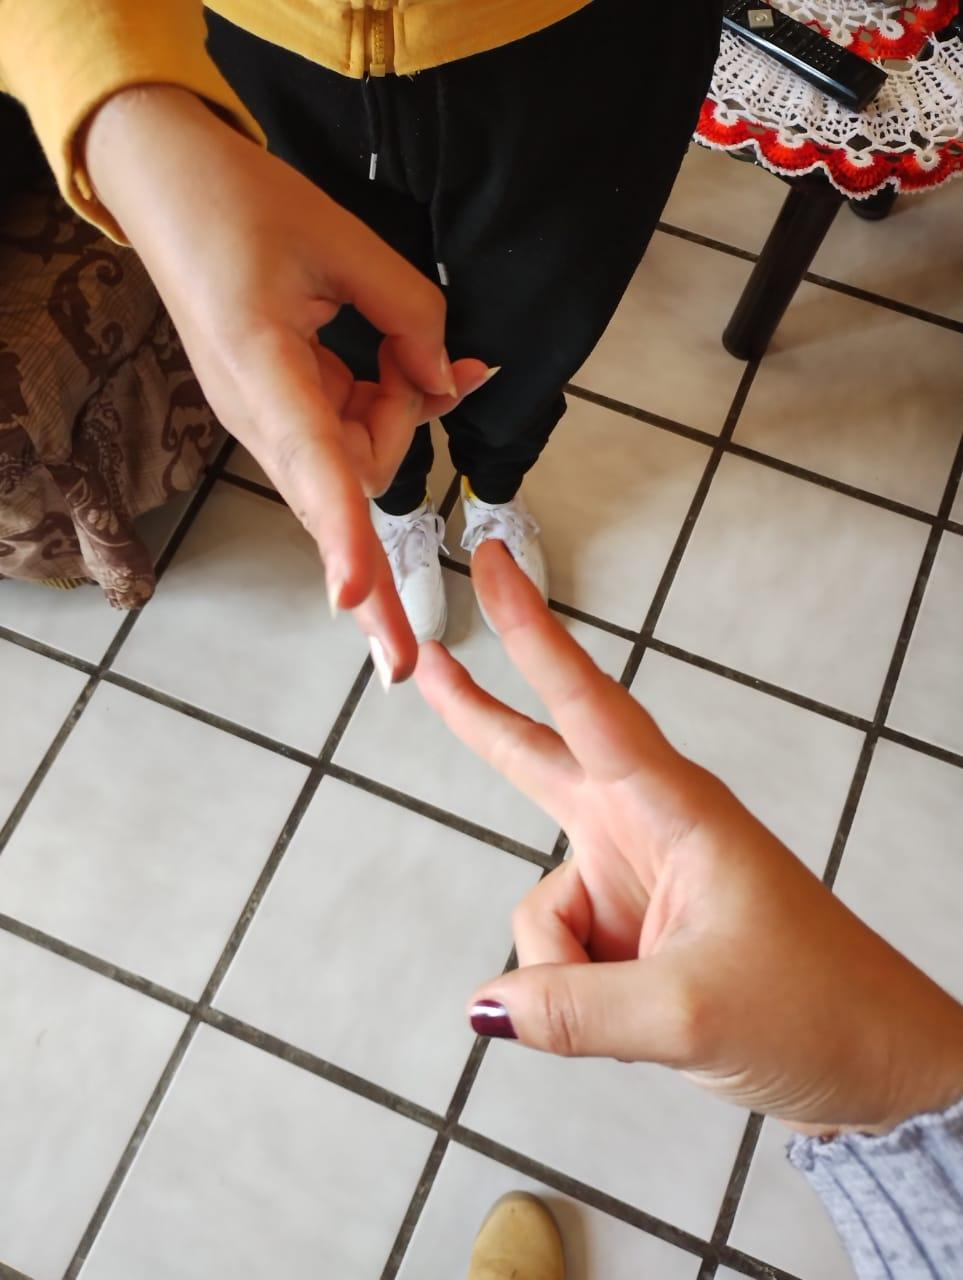Scissor: (397, 504, 963, 1188), (88, 60, 510, 718)
